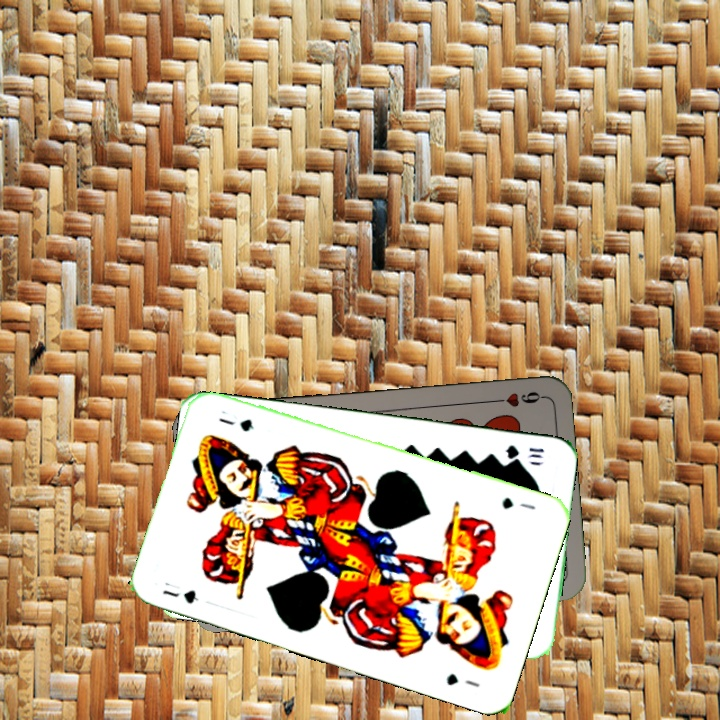G10: (502, 441, 547, 462)
GU: (158, 578, 200, 607), (498, 493, 538, 513)
H9: (486, 387, 545, 410)
